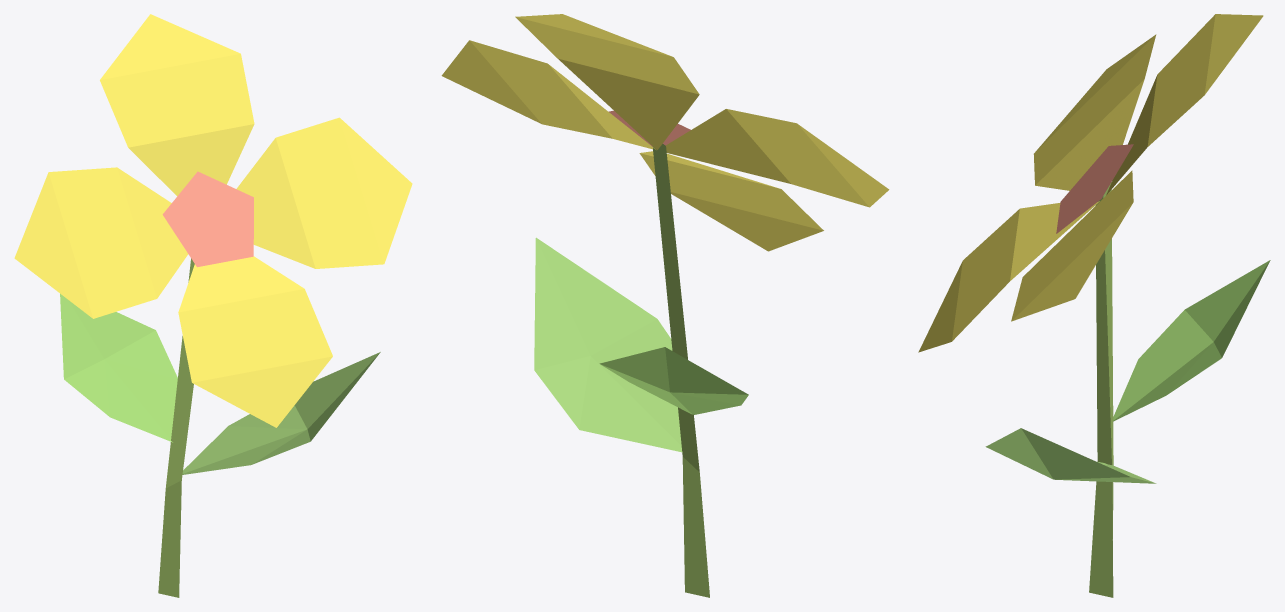
File: Flower_d_OneS_08.fbx
3 views of the same model, side by side, from view 1: azimuth 30°, elevation 25°; view 2: azimuth 150°, elevation 25°; view 3: azimuth 270°, elevation 25° (orthographic). The views are drawn at different scales.
Visible parts, largest first — view 1: Flower_d_OneS_08; view 2: Flower_d_OneS_08; view 3: Flower_d_OneS_08.
Boxes of the visible parts, x1=… form: Flower_d_OneS_08: x1=14, y1=14, x2=412, y2=597; Flower_d_OneS_08: x1=441, y1=14, x2=889, y2=597; Flower_d_OneS_08: x1=918, y1=14, x2=1270, y2=597.
Bounding box in the file's own units: 25.63 × 32.95 × 17.45.
